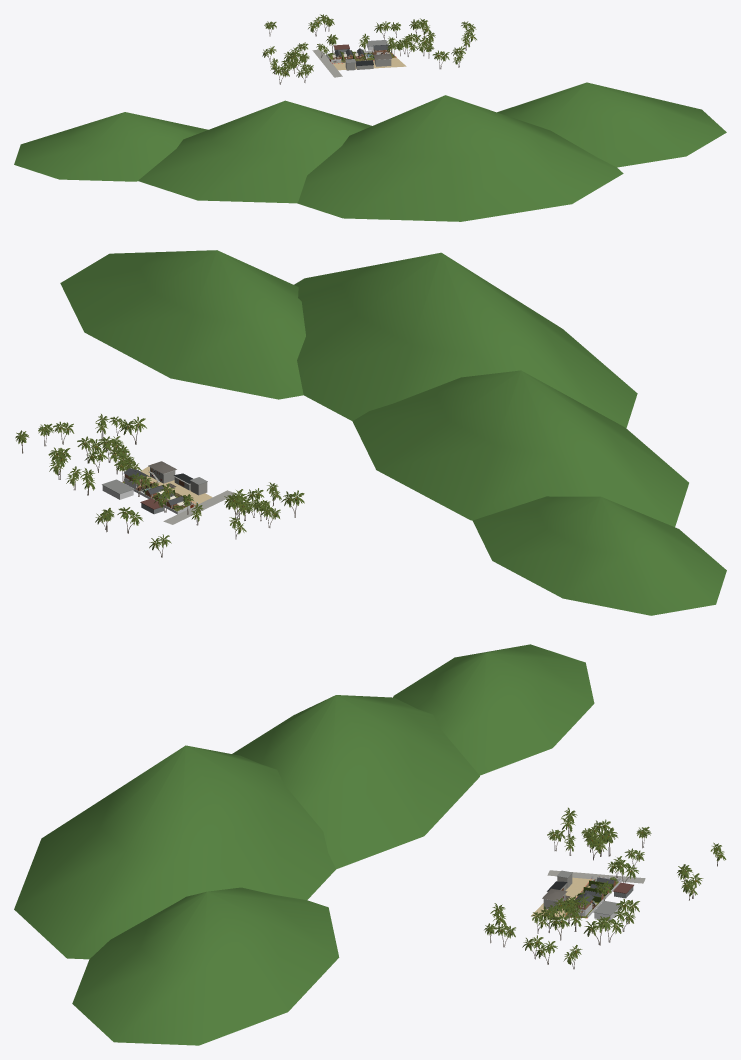
Rendered from site.glb.
The picture shows the model from 3 angles, top to bottom: view 1: azimuth 30°, elevation 25°; view 2: azimuth 150°, elevation 25°; view 3: azimuth 270°, elevation 25°; orthographic projection. The views are drawn at different scales.
Visible parts, largest first — view 1: Mesh_693, Mesh_692, Mesh_694, Mesh_695, LM_Ground; view 2: Mesh_693, Mesh_692, Mesh_694, Mesh_695, LM_Ground, LM_MainHouse; view 3: Mesh_693, Mesh_694, Mesh_692, Mesh_695, LM_Ground, LM_MainHouse.
Part boxes in pixels (left/top/right/bottom): Mesh_693: left=297, top=95, right=623, bottom=221; Mesh_692: left=138, top=100, right=371, bottom=203; Mesh_694: left=497, top=82, right=726, bottom=167; Mesh_695: left=14, top=112, right=208, bottom=181; LM_Ground: left=312, top=49, right=406, bottom=77; Mesh_693: left=294, top=252, right=637, bottom=428; Mesh_692: left=352, top=370, right=688, bottom=526; Mesh_694: left=60, top=250, right=305, bottom=399; Mesh_695: left=472, top=496, right=726, bottom=615; LM_Ground: left=122, top=464, right=234, bottom=524; LM_MainHouse: left=102, top=468, right=154, bottom=499; Mesh_693: left=14, top=745, right=335, bottom=959; Mesh_694: left=72, top=887, right=339, bottom=1045; Mesh_692: left=232, top=695, right=479, bottom=869; Mesh_695: left=393, top=644, right=594, bottom=775; LM_Ground: left=531, top=870, right=645, bottom=918; LM_MainHouse: left=574, top=893, right=620, bottom=920.
Size of what is drawn, in the model's own units: 514 by 70 by 386.
98 materials, 48 textured.
